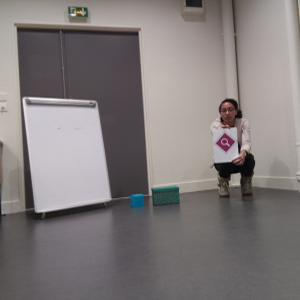big: (23, 96, 113, 214)
small: (151, 186, 181, 206), (130, 194, 144, 208)
